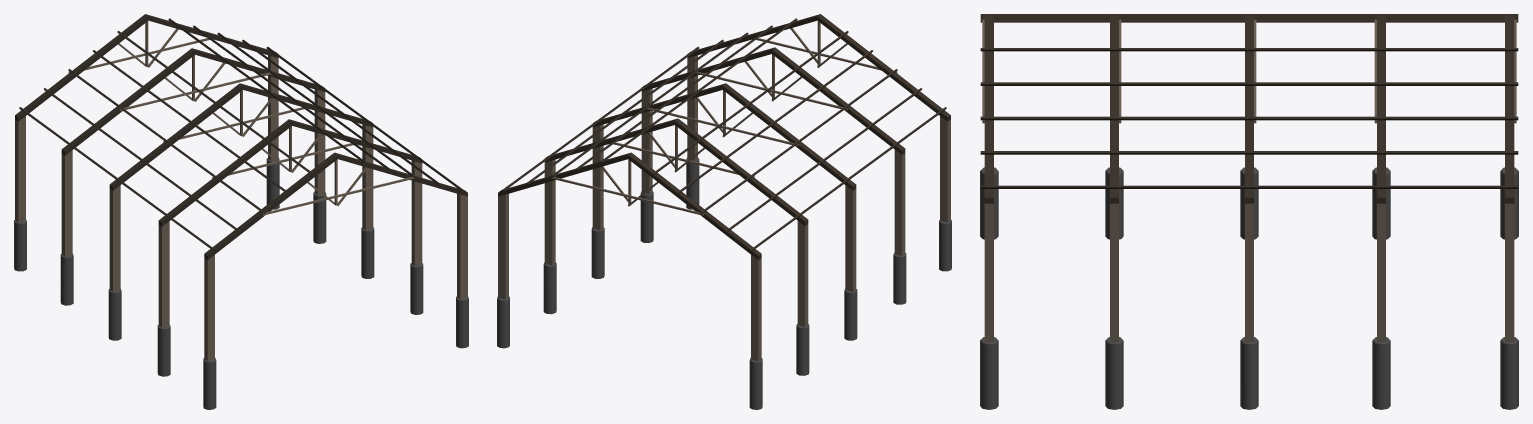
File: Pagola_001_mesh_001.fbx
3 renders of one model, left to right at view 1: azimuth 30°, elevation 25°; view 2: azimuth 150°, elevation 25°; view 3: azimuth 270°, elevation 25°, orthographic. The views are drawn at different scales.
Visible parts, largest first — view 1: Pagola_001_Mesh_001; view 2: Pagola_001_Mesh_001; view 3: Pagola_001_Mesh_001.
Part boxes in pixels (x1,y1,x2,y2): Pagola_001_Mesh_001: (14,14,468,409); Pagola_001_Mesh_001: (497,14,951,409); Pagola_001_Mesh_001: (980,14,1518,409).
Bounding box in the file's own units: 3466 × 2790 × 4449.
